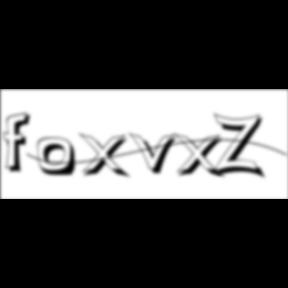Z: (214, 112, 268, 181)
f: (4, 111, 36, 175)
o: (37, 137, 79, 179)
v: (129, 131, 183, 177)
x: (80, 132, 134, 181), (174, 132, 228, 181)
